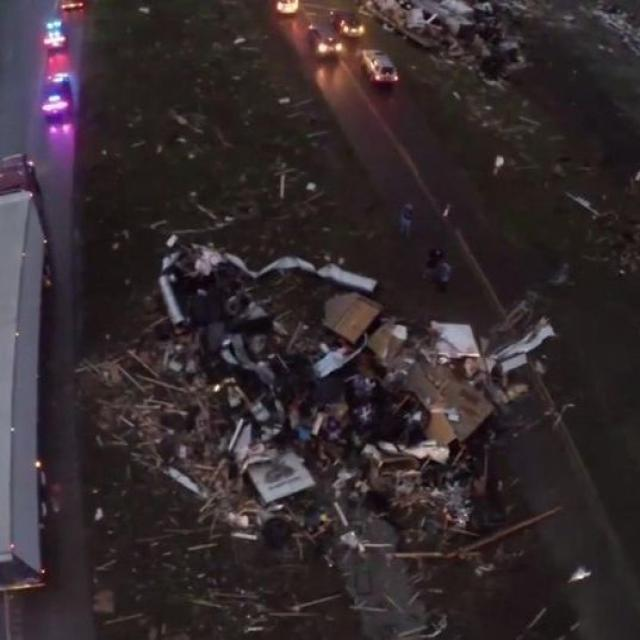traffic_incident: (73, 234, 485, 527)
